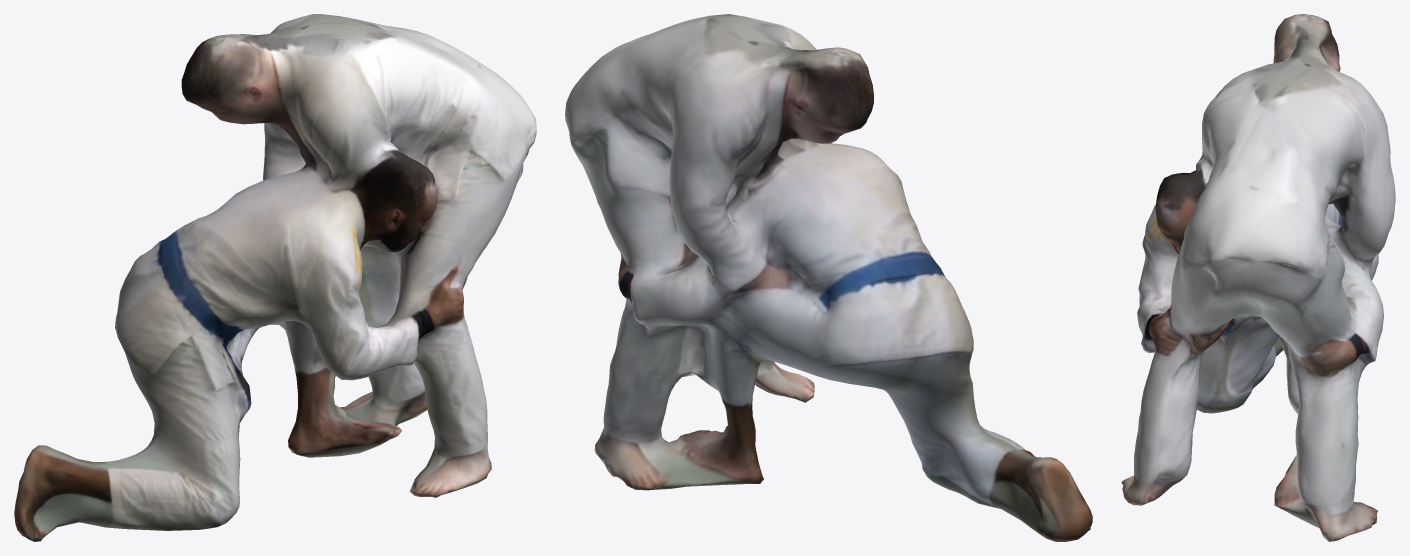
File: double-leg-3.glb
3 views of the same model, side by side, from view 1: azimuth 30°, elevation 25°; view 2: azimuth 150°, elevation 25°; view 3: azimuth 270°, elevation 25° (orthographic). The views are drawn at different scales.
Bounding box in the file's own units: 1.51 × 1.3 × 0.7388.
1 material, 1 textured.
